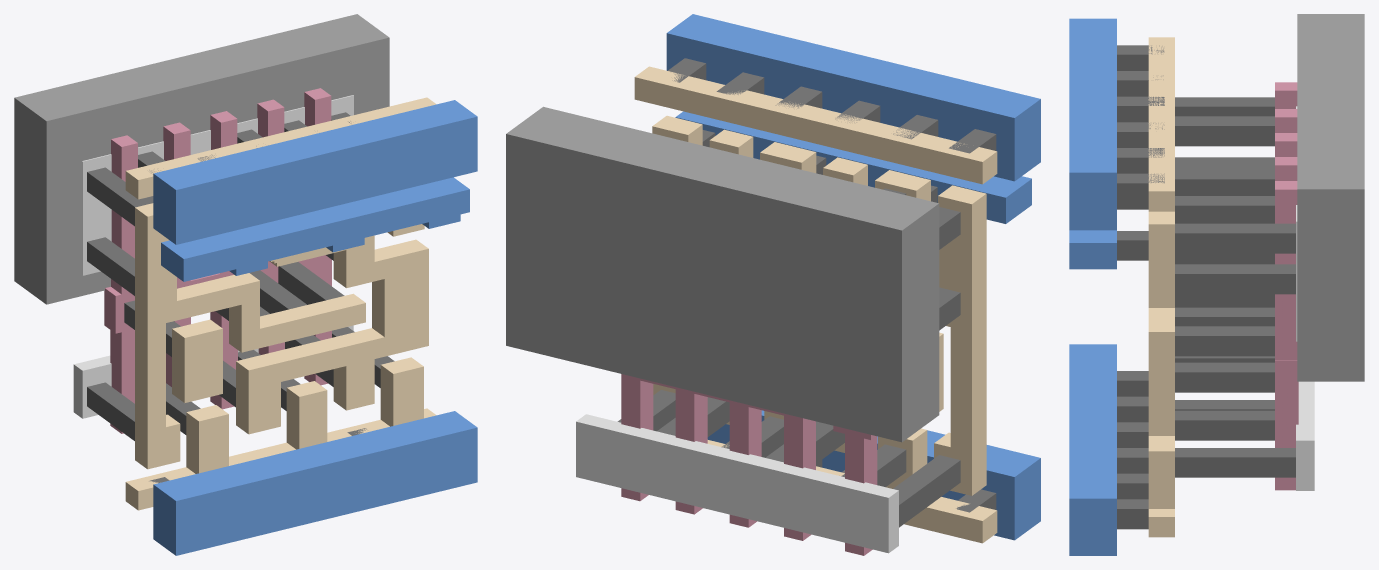
File: sky130_fd_sc_hd__lpflow_clkbufkapwr_4.gds.gltf
3 renders of one model, left to right at view 1: azimuth 30°, elevation 25°; view 2: azimuth 150°, elevation 25°; view 3: azimuth 270°, elevation 25°, orthographic. The views are drawn at different scales.
Visible parts, largest first — view 1: sky130_fd_sc_hd__lpflow_clkbufkapwr_4_met1, sky130_fd_sc_hd__lpflow_clkbufkapwr_4_li1, sky130_fd_sc_hd__lpflow_clkbufkapwr_4_nwell, sky130_fd_sc_hd__lpflow_clkbufkapwr_4_licon, sky130_fd_sc_hd__lpflow_clkbufkapwr_4_poly, sky130_fd_sc_hd__lpflow_clkbufkapwr_4_diff; view 2: sky130_fd_sc_hd__lpflow_clkbufkapwr_4_nwell, sky130_fd_sc_hd__lpflow_clkbufkapwr_4_li1, sky130_fd_sc_hd__lpflow_clkbufkapwr_4_met1, sky130_fd_sc_hd__lpflow_clkbufkapwr_4_diff, sky130_fd_sc_hd__lpflow_clkbufkapwr_4_poly, sky130_fd_sc_hd__lpflow_clkbufkapwr_4_licon, sky130_fd_sc_hd__lpflow_clkbufkapwr_4_mcon; view 3: sky130_fd_sc_hd__lpflow_clkbufkapwr_4_licon, sky130_fd_sc_hd__lpflow_clkbufkapwr_4_nwell, sky130_fd_sc_hd__lpflow_clkbufkapwr_4_met1, sky130_fd_sc_hd__lpflow_clkbufkapwr_4_li1, sky130_fd_sc_hd__lpflow_clkbufkapwr_4_mcon, sky130_fd_sc_hd__lpflow_clkbufkapwr_4_poly, sky130_fd_sc_hd__lpflow_clkbufkapwr_4_diff.
Part boxes in pixels (x1,y1,x2,y2): sky130_fd_sc_hd__lpflow_clkbufkapwr_4_met1: (153, 100, 477, 555); sky130_fd_sc_hd__lpflow_clkbufkapwr_4_li1: (125, 97, 436, 510); sky130_fd_sc_hd__lpflow_clkbufkapwr_4_nwell: (14, 14, 389, 304); sky130_fd_sc_hd__lpflow_clkbufkapwr_4_licon: (87, 112, 394, 440); sky130_fd_sc_hd__lpflow_clkbufkapwr_4_poly: (104, 88, 331, 433); sky130_fd_sc_hd__lpflow_clkbufkapwr_4_diff: (73, 95, 353, 418); sky130_fd_sc_hd__lpflow_clkbufkapwr_4_nwell: (506, 106, 939, 442); sky130_fd_sc_hd__lpflow_clkbufkapwr_4_li1: (634, 66, 997, 543); sky130_fd_sc_hd__lpflow_clkbufkapwr_4_met1: (666, 14, 1040, 540); sky130_fd_sc_hd__lpflow_clkbufkapwr_4_diff: (576, 414, 898, 553); sky130_fd_sc_hd__lpflow_clkbufkapwr_4_poly: (621, 374, 877, 555); sky130_fd_sc_hd__lpflow_clkbufkapwr_4_licon: (617, 188, 960, 527); sky130_fd_sc_hd__lpflow_clkbufkapwr_4_mcon: (668, 58, 996, 512); sky130_fd_sc_hd__lpflow_clkbufkapwr_4_licon: (1175, 97, 1295, 477); sky130_fd_sc_hd__lpflow_clkbufkapwr_4_nwell: (1297, 14, 1364, 381); sky130_fd_sc_hd__lpflow_clkbufkapwr_4_met1: (1069, 18, 1116, 555); sky130_fd_sc_hd__lpflow_clkbufkapwr_4_li1: (1148, 37, 1174, 537); sky130_fd_sc_hd__lpflow_clkbufkapwr_4_mcon: (1117, 45, 1164, 529); sky130_fd_sc_hd__lpflow_clkbufkapwr_4_poly: (1275, 82, 1298, 490); sky130_fd_sc_hd__lpflow_clkbufkapwr_4_diff: (1296, 106, 1314, 490).
Bounding box in the file's own units: 3.14 × 3.2 × 2.24.
